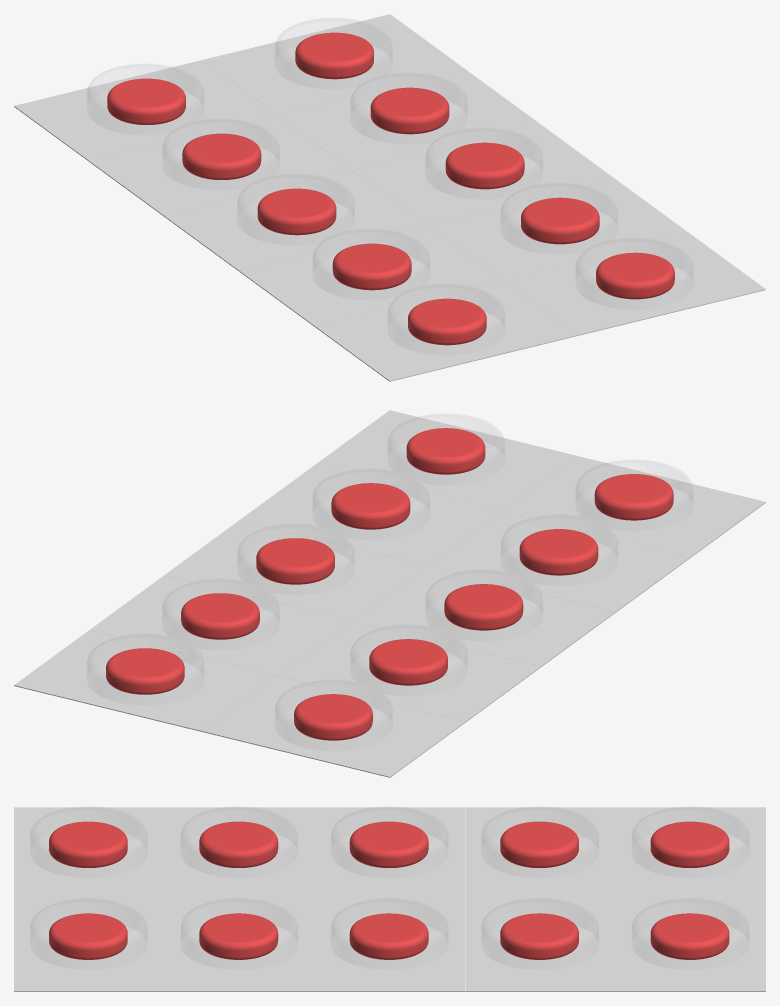
The model's file is Round_Pill_2x5_Red.glb.
3 views of the same model, one above another, from view 1: azimuth 30°, elevation 25°; view 2: azimuth 150°, elevation 25°; view 3: azimuth 270°, elevation 25° (orthographic).
Visible parts, largest first — view 1: Round_Pill_Base_2x5, Round_Pill_2x5, Round_Pill_Shell_2x5, Round_Pill_Lid_2x5; view 2: Round_Pill_Base_2x5, Round_Pill_2x5, Round_Pill_Lid_2x5, Round_Pill_Shell_2x5; view 3: Round_Pill_Base_2x5, Round_Pill_2x5, Round_Pill_Shell_2x5, Round_Pill_Lid_2x5.
Part boxes in pixels (x1,y1,x2,y2): Round_Pill_Base_2x5: (14, 14, 765, 381); Round_Pill_2x5: (107, 32, 674, 345); Round_Pill_Shell_2x5: (87, 18, 692, 327); Round_Pill_Lid_2x5: (86, 45, 693, 355); Round_Pill_Base_2x5: (14, 410, 765, 777); Round_Pill_2x5: (106, 428, 673, 740); Round_Pill_Lid_2x5: (86, 441, 693, 751); Round_Pill_Shell_2x5: (87, 414, 692, 723); Round_Pill_Base_2x5: (14, 807, 765, 991); Round_Pill_2x5: (49, 821, 729, 959); Round_Pill_Shell_2x5: (30, 806, 748, 941); Round_Pill_Lid_2x5: (30, 833, 749, 969).
Size of the model in its own units: 6.8 by 0.4541 by 11.77.
